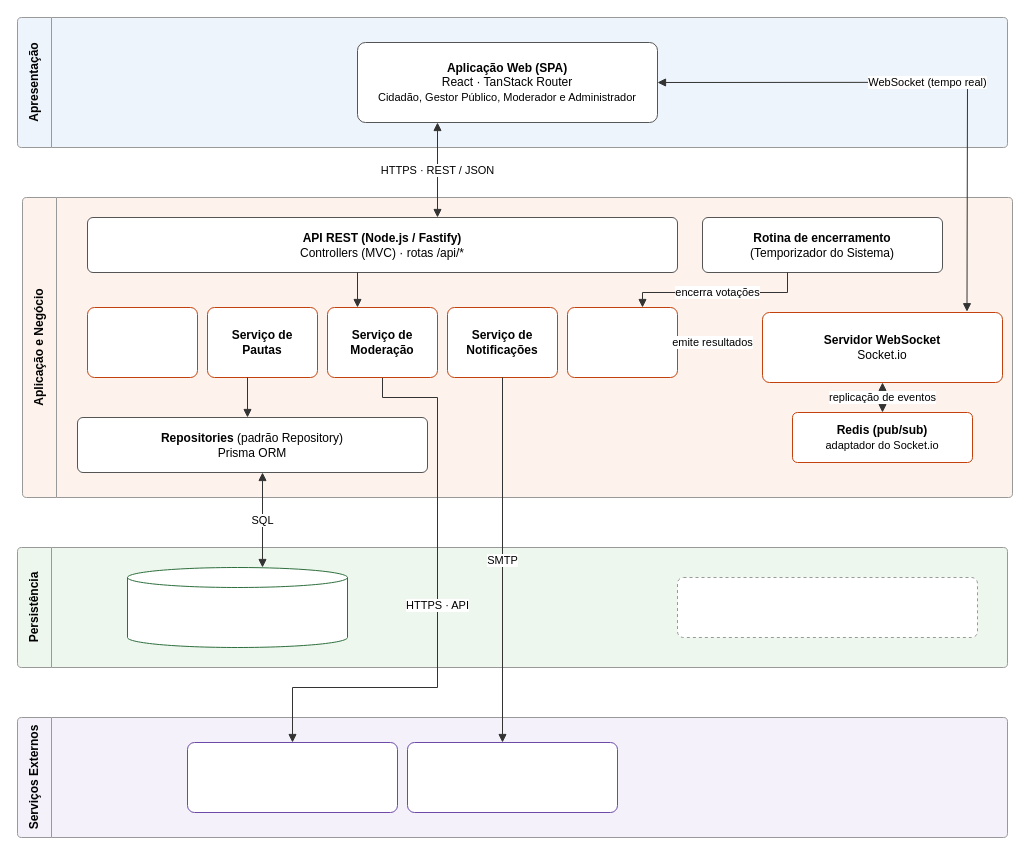
Image size: 1030x855. Some labels were removed from this diagram. Each missing label, with the centre of its shape:
"API de IA (LLM) Google Gemini" goes at (x=292, y=777).
"Contêineres Docker / Docker Compose (front-end, API e banco de dados)" goes at (x=827, y=607).
"PostgreSQL transações ACID" goes at (x=237, y=607).
"Provedor de e-mail SMTP" goes at (x=512, y=777).
"Serviço de Usuários e Autenticação" goes at (x=142, y=342).
"Serviço de Votação" goes at (x=622, y=342).
